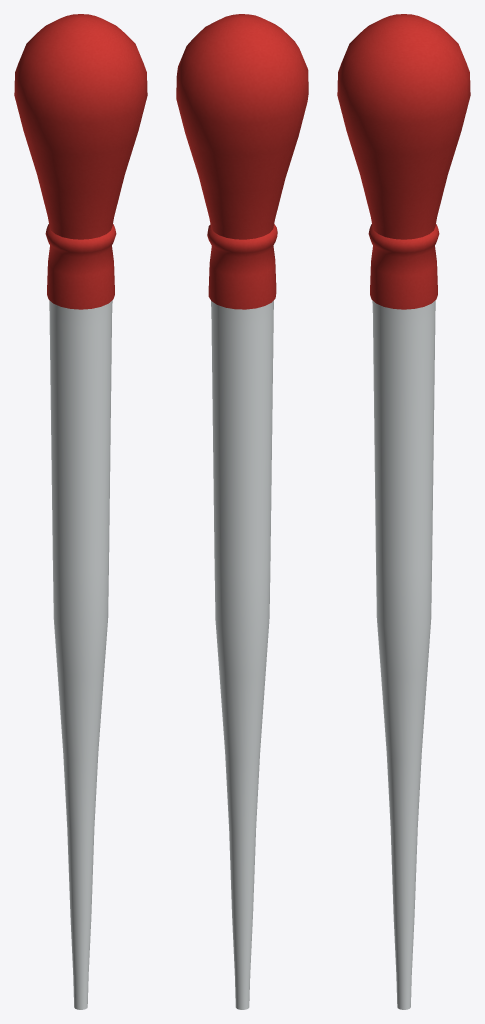
The model's file is hx_fyl_jiaotoudiguan.FBX.
3 renders of one model, left to right at view 1: azimuth 90°, elevation 25°; view 2: azimuth 150°, elevation 25°; view 3: azimuth 270°, elevation 25°, orthographic.
Parts seen in each view (by area): view 1: hx_fyl_jtdg; view 2: hx_fyl_jtdg; view 3: hx_fyl_jtdg.
Boxes of the visible parts, <box> form: hx_fyl_jtdg: <box>14,14,147,1009</box>; hx_fyl_jtdg: <box>176,14,308,1009</box>; hx_fyl_jtdg: <box>337,14,470,1009</box>.
Size of the model in its own units: 1.53 by 12.51 by 1.53.
2 materials, 2 textured.
